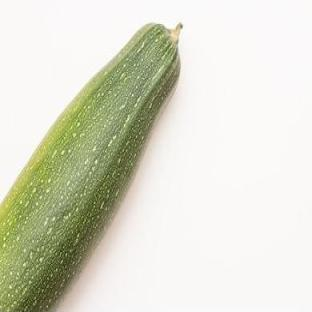Zucchini: (0, 24, 180, 311)
